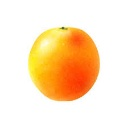orange: (25, 26, 102, 102)
